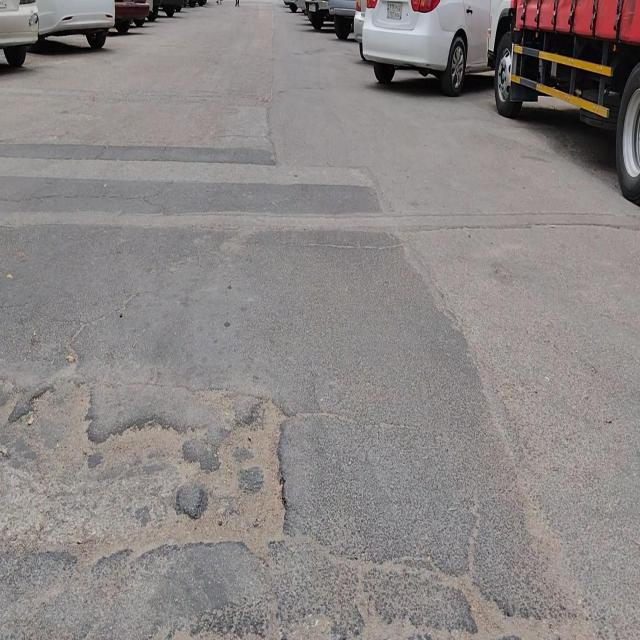Pothole: (178, 389, 289, 570), (87, 417, 207, 564)
